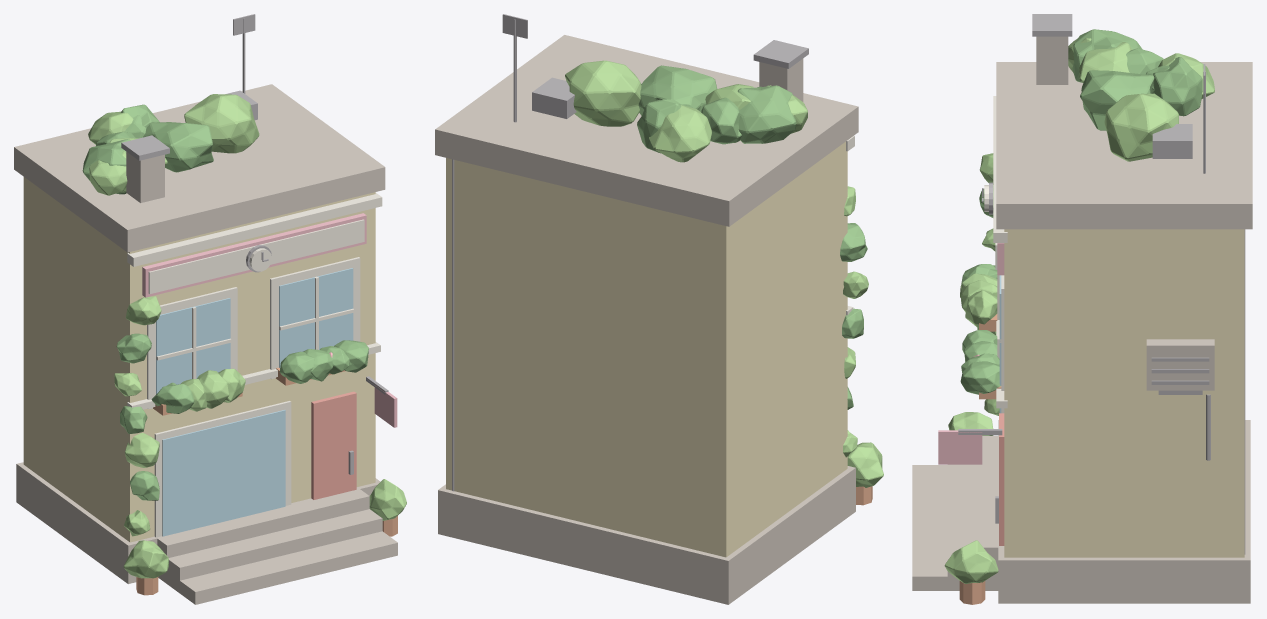
Rendered from Shop_D.fbx.
3 views of the same model, side by side, from view 1: azimuth 30°, elevation 25°; view 2: azimuth 150°, elevation 25°; view 3: azimuth 270°, elevation 25° (orthographic). The views are drawn at different scales.
Parts seen in each view (by area): view 1: Shop_D, Shop_D_Veg; view 2: Shop_D, Shop_D_Veg; view 3: Shop_D, Shop_D_Veg.
Part boxes in pixels (left/top/right/bottom): Shop_D: left=14, top=14, right=397, bottom=604; Shop_D_Veg: left=82, top=94, right=406, bottom=578; Shop_D: left=435, top=14, right=872, bottom=604; Shop_D_Veg: left=565, top=60, right=883, bottom=487; Shop_D: left=912, top=14, right=1252, bottom=604; Shop_D_Veg: left=944, top=29, right=1214, bottom=583.
Size of the model in its own units: 4.51 by 7 by 4.25.
